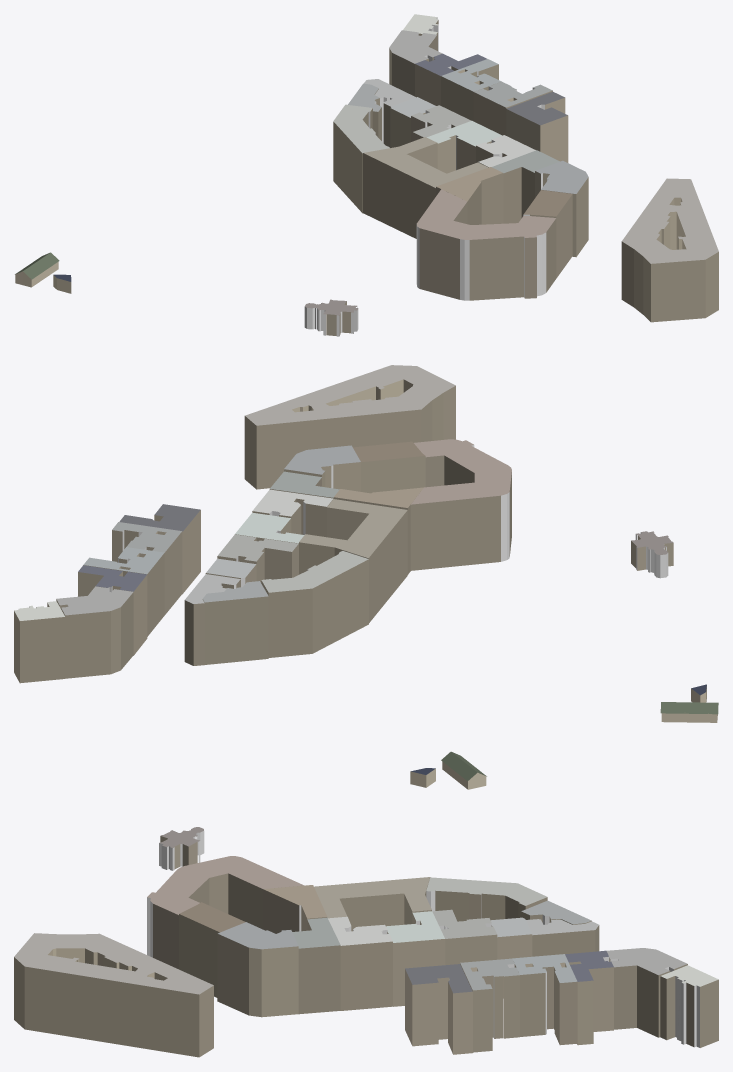
The picture shows the model from 3 angles, top to bottom: view 1: azimuth 30°, elevation 25°; view 2: azimuth 150°, elevation 25°; view 3: azimuth 270°, elevation 25°; orthographic projection. The views are drawn at different scales.
Visible parts, largest first — view 1: tuile; view 2: tuile; view 3: tuile.
Part boxes in pixels (x1,y1,x2,y2): tuile: (15,14,718,336); tuile: (14,365,718,722); tuile: (14,751,718,1057).
Bounding box in the file's own units: 259 × 29.15 × 265.
